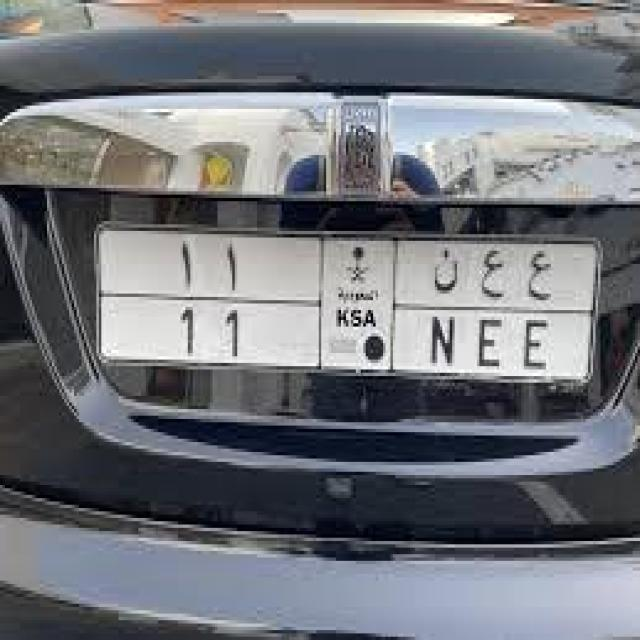license_plate: (97, 224, 610, 380)
